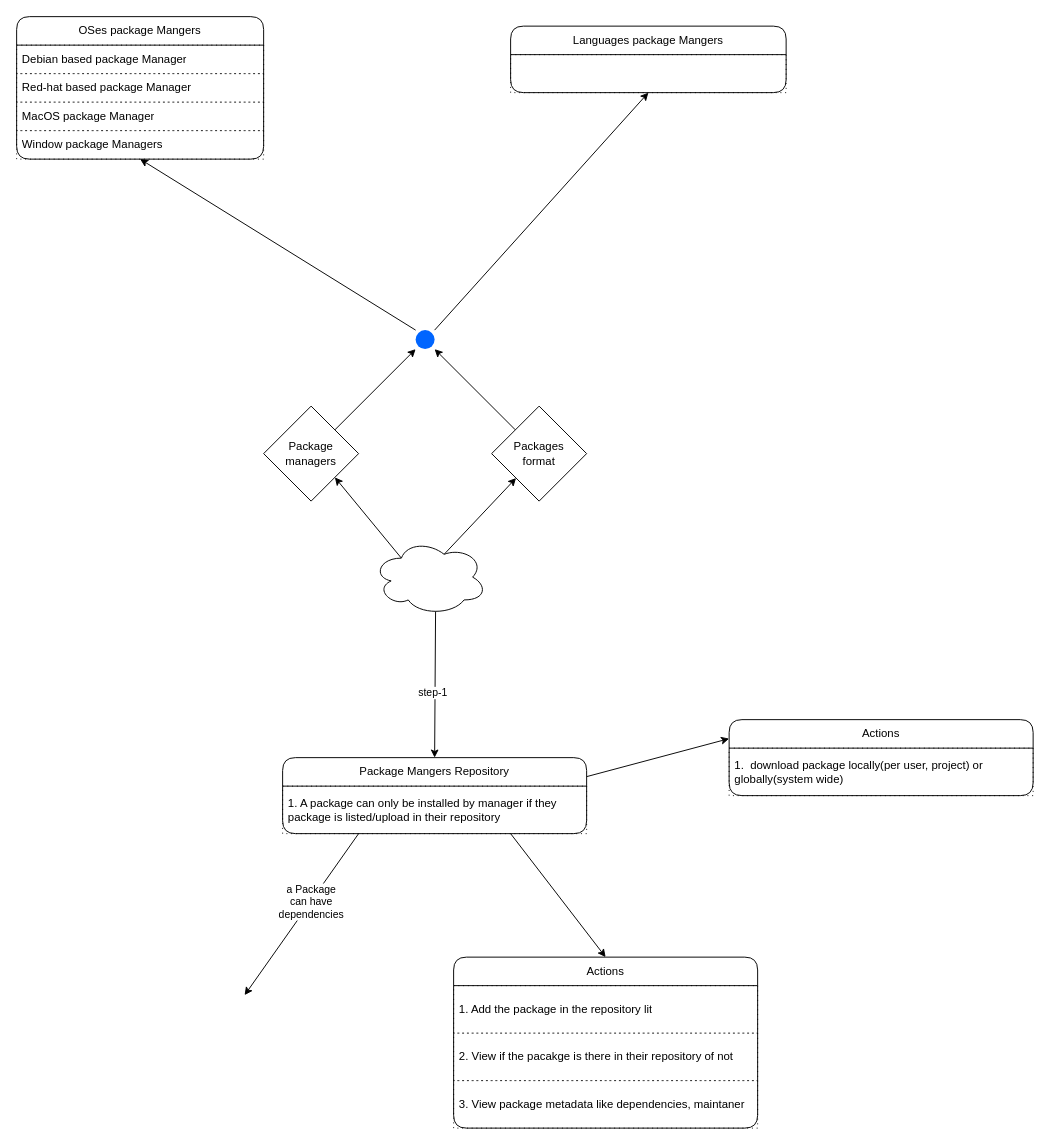
Image size: 1050x1145. Some labels were removed from this diagram. The shapes that lost their labels are listed below. From the top down, each one's centre as x and y in pixels, then its label:
point (648, 73): All programming languages have their own package managers
point (429, 576): Packages
